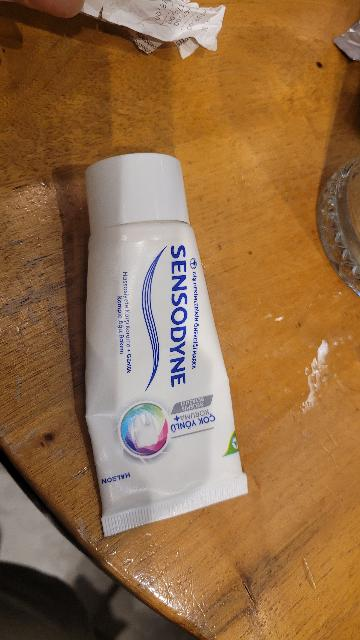Kagit: (51, 0, 234, 71)
Plastik: (75, 152, 262, 537)
